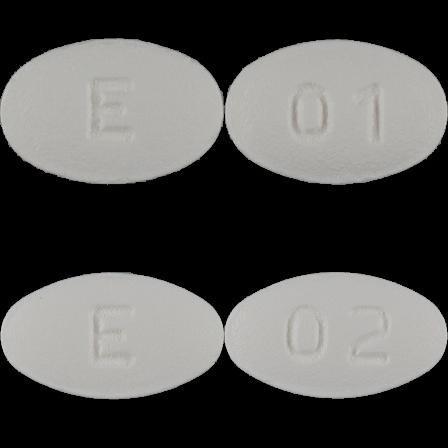65862-142: (0, 0, 224, 224)
